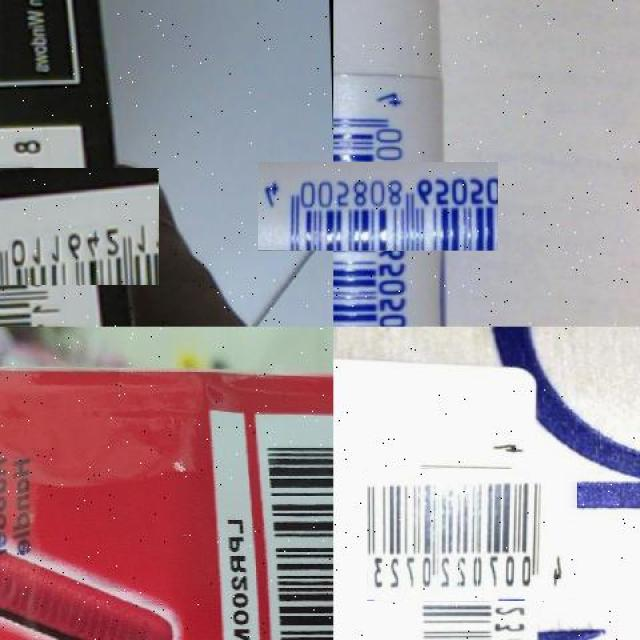Barcode: (387, 449, 558, 620), (296, 124, 460, 289), (0, 148, 139, 307), (268, 416, 333, 640)
